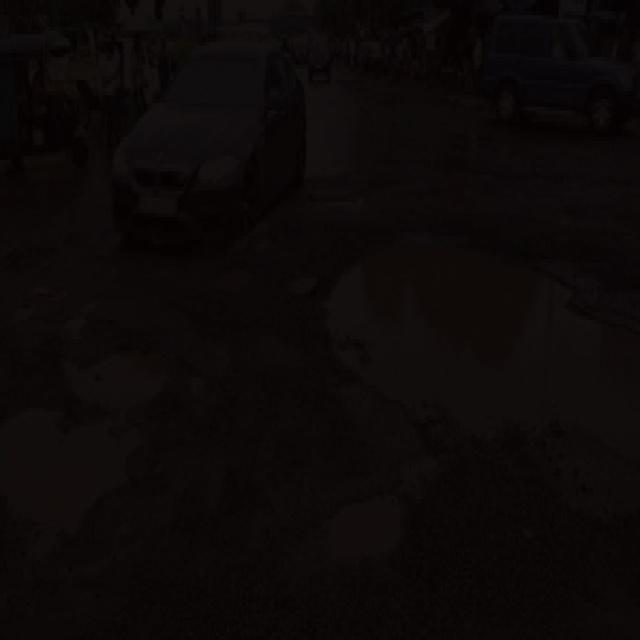Pothole: (304, 226, 640, 534), (0, 406, 145, 557), (284, 492, 420, 589), (58, 344, 180, 412), (217, 270, 262, 305), (280, 278, 324, 301)
